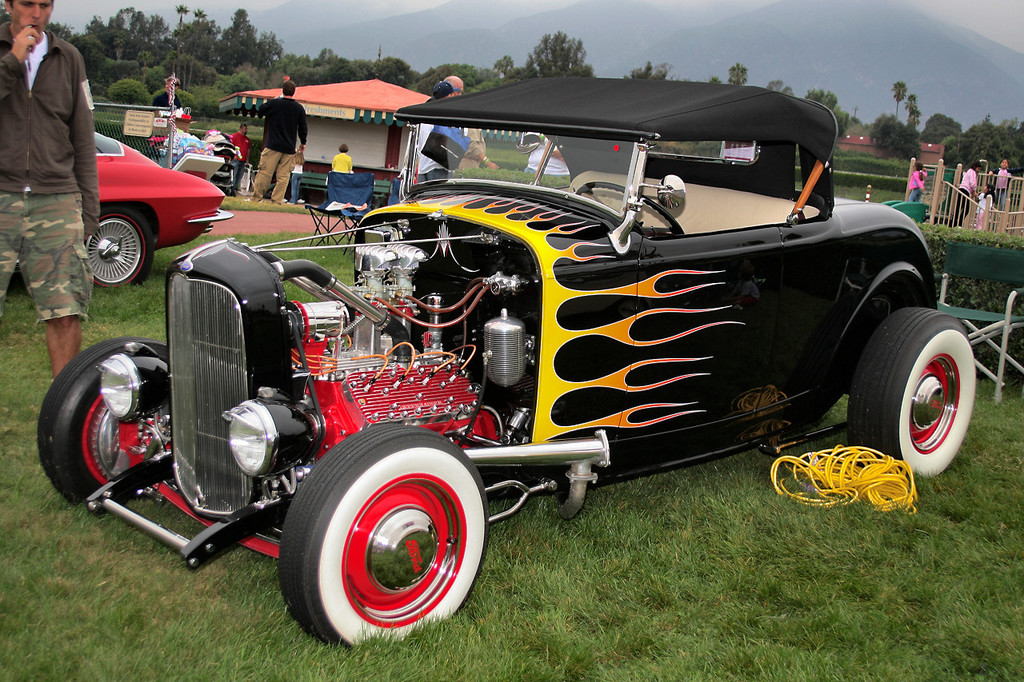Car: (35, 77, 979, 654), (81, 130, 231, 291)
